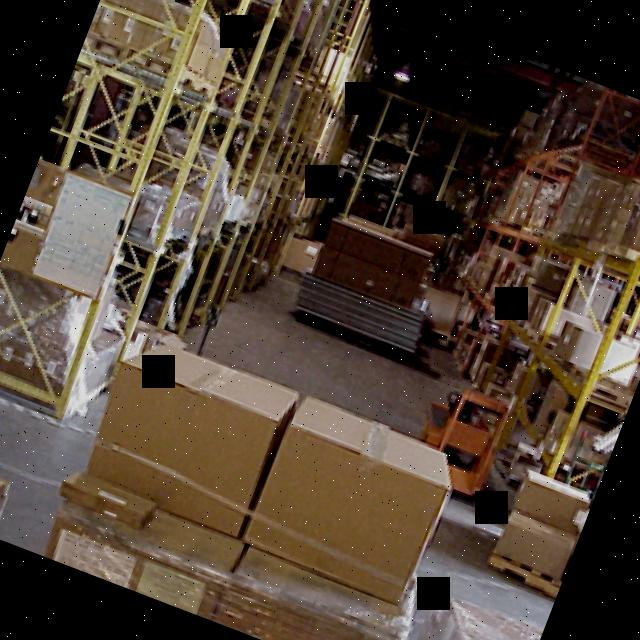box: (68, 326, 297, 536), (238, 394, 456, 604), (87, 0, 239, 89), (493, 497, 585, 585)
